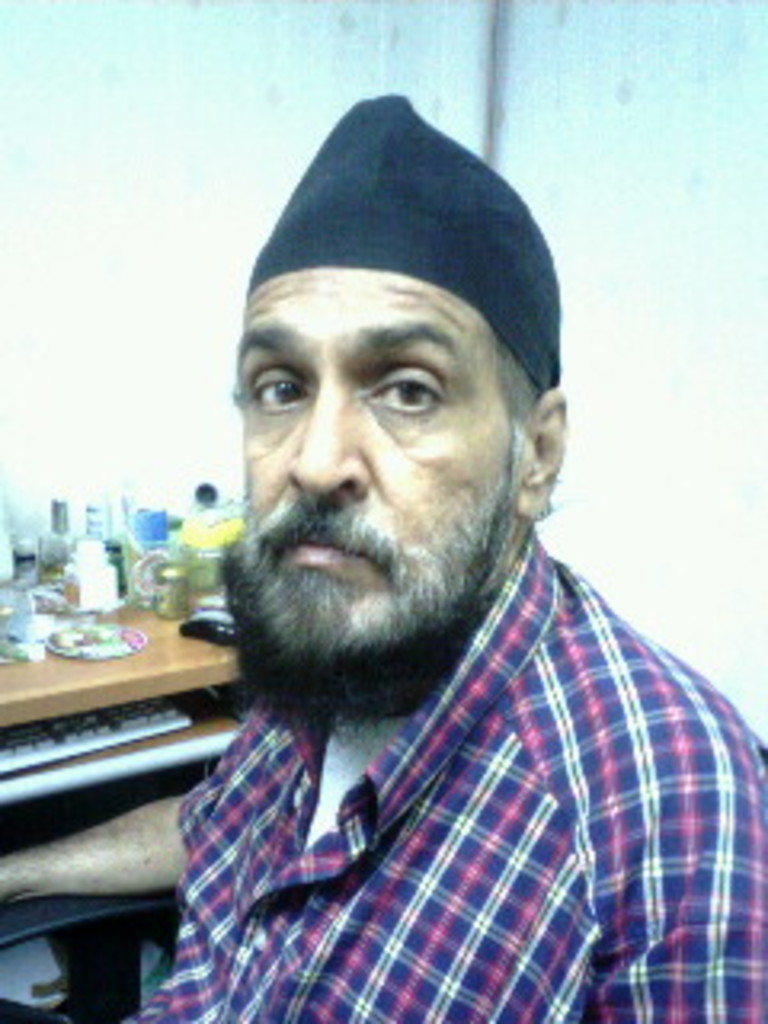face: (235, 203, 494, 698)
